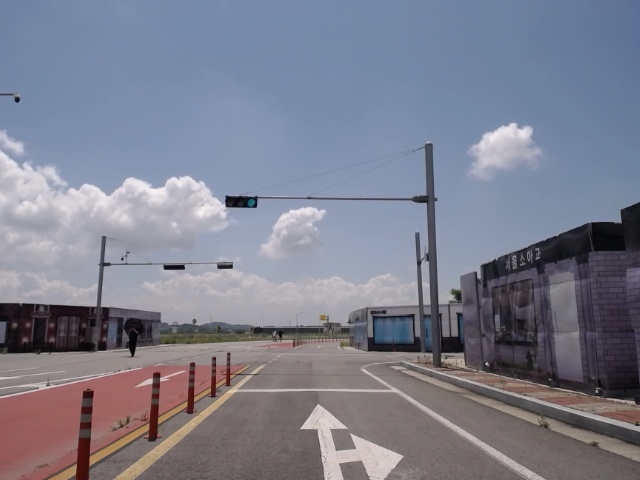green_3: (226, 196, 258, 207)
